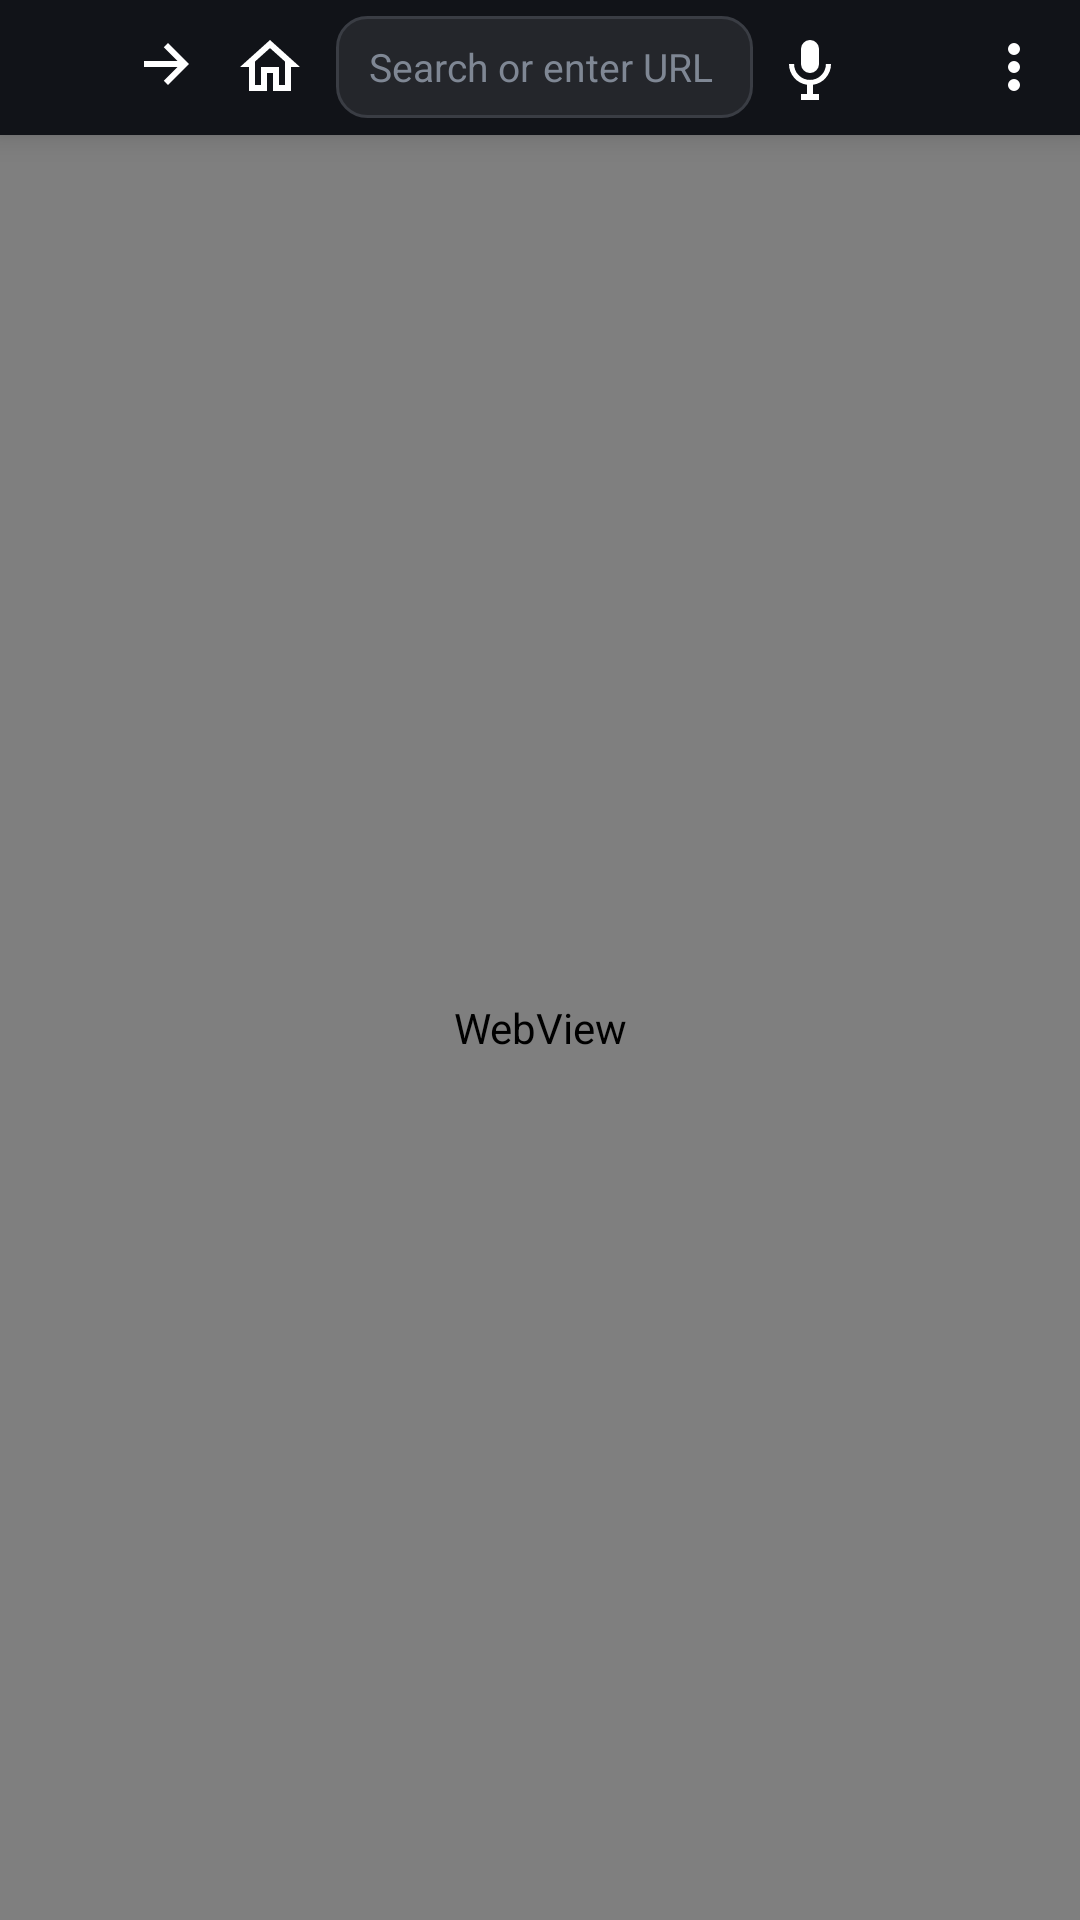

Point at icon controls on the screen. Image size 1080w x 1920h, points as point (x, y).
Forward: point (166, 64)
Home: point (270, 65)
More options: point (1014, 67)
Voice Search: point (810, 70)
